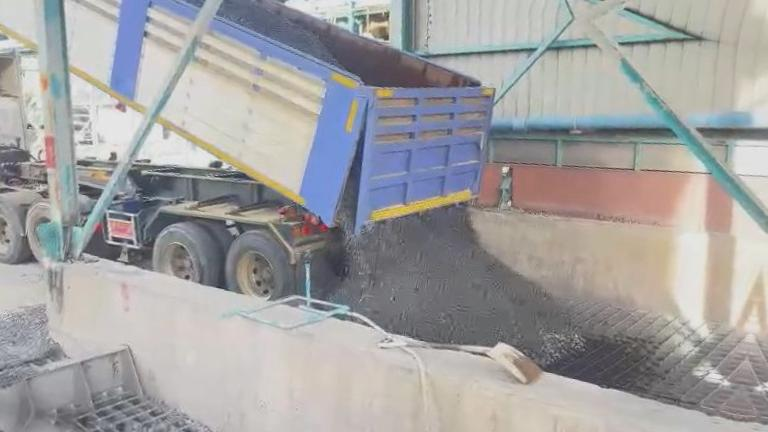gravel: (315, 184, 583, 365), (218, 0, 343, 67), (95, 0, 213, 7)
